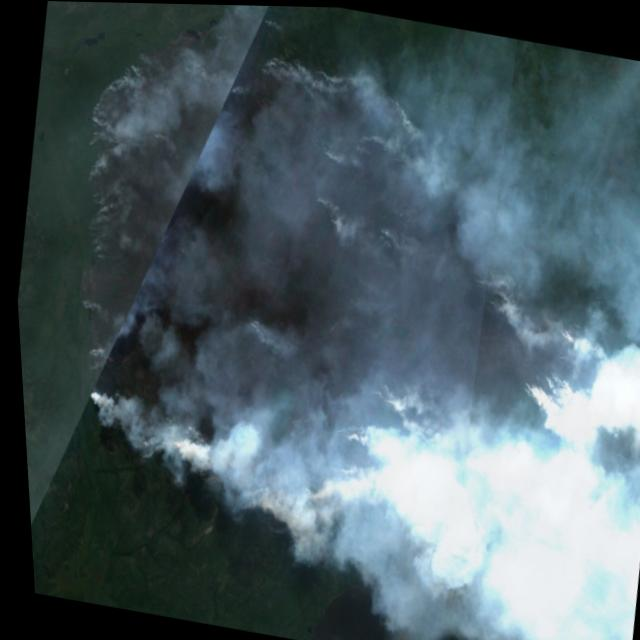fire: (5, 0, 640, 610)
